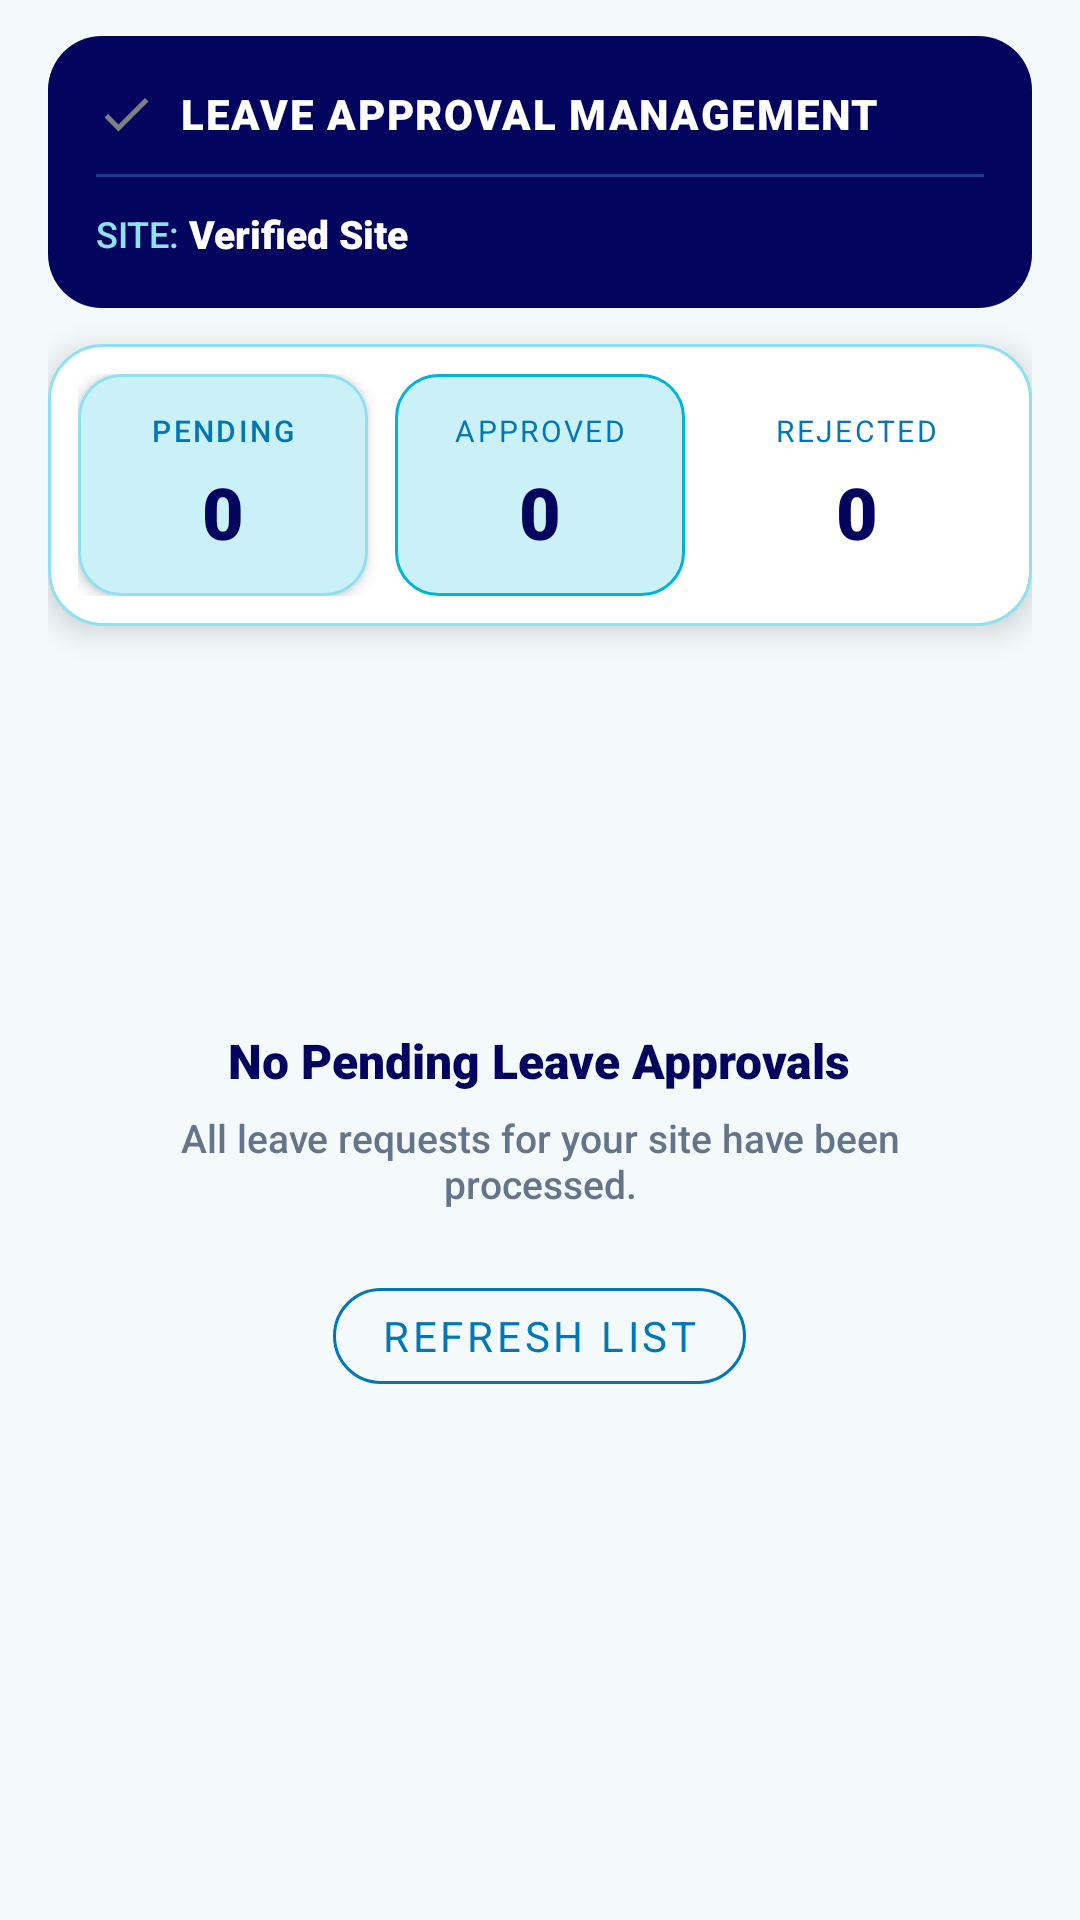

Icons on this 1080×1920 Android screen, each with the point to tap as (x=x, y=y):
check: (x=126, y=115)
